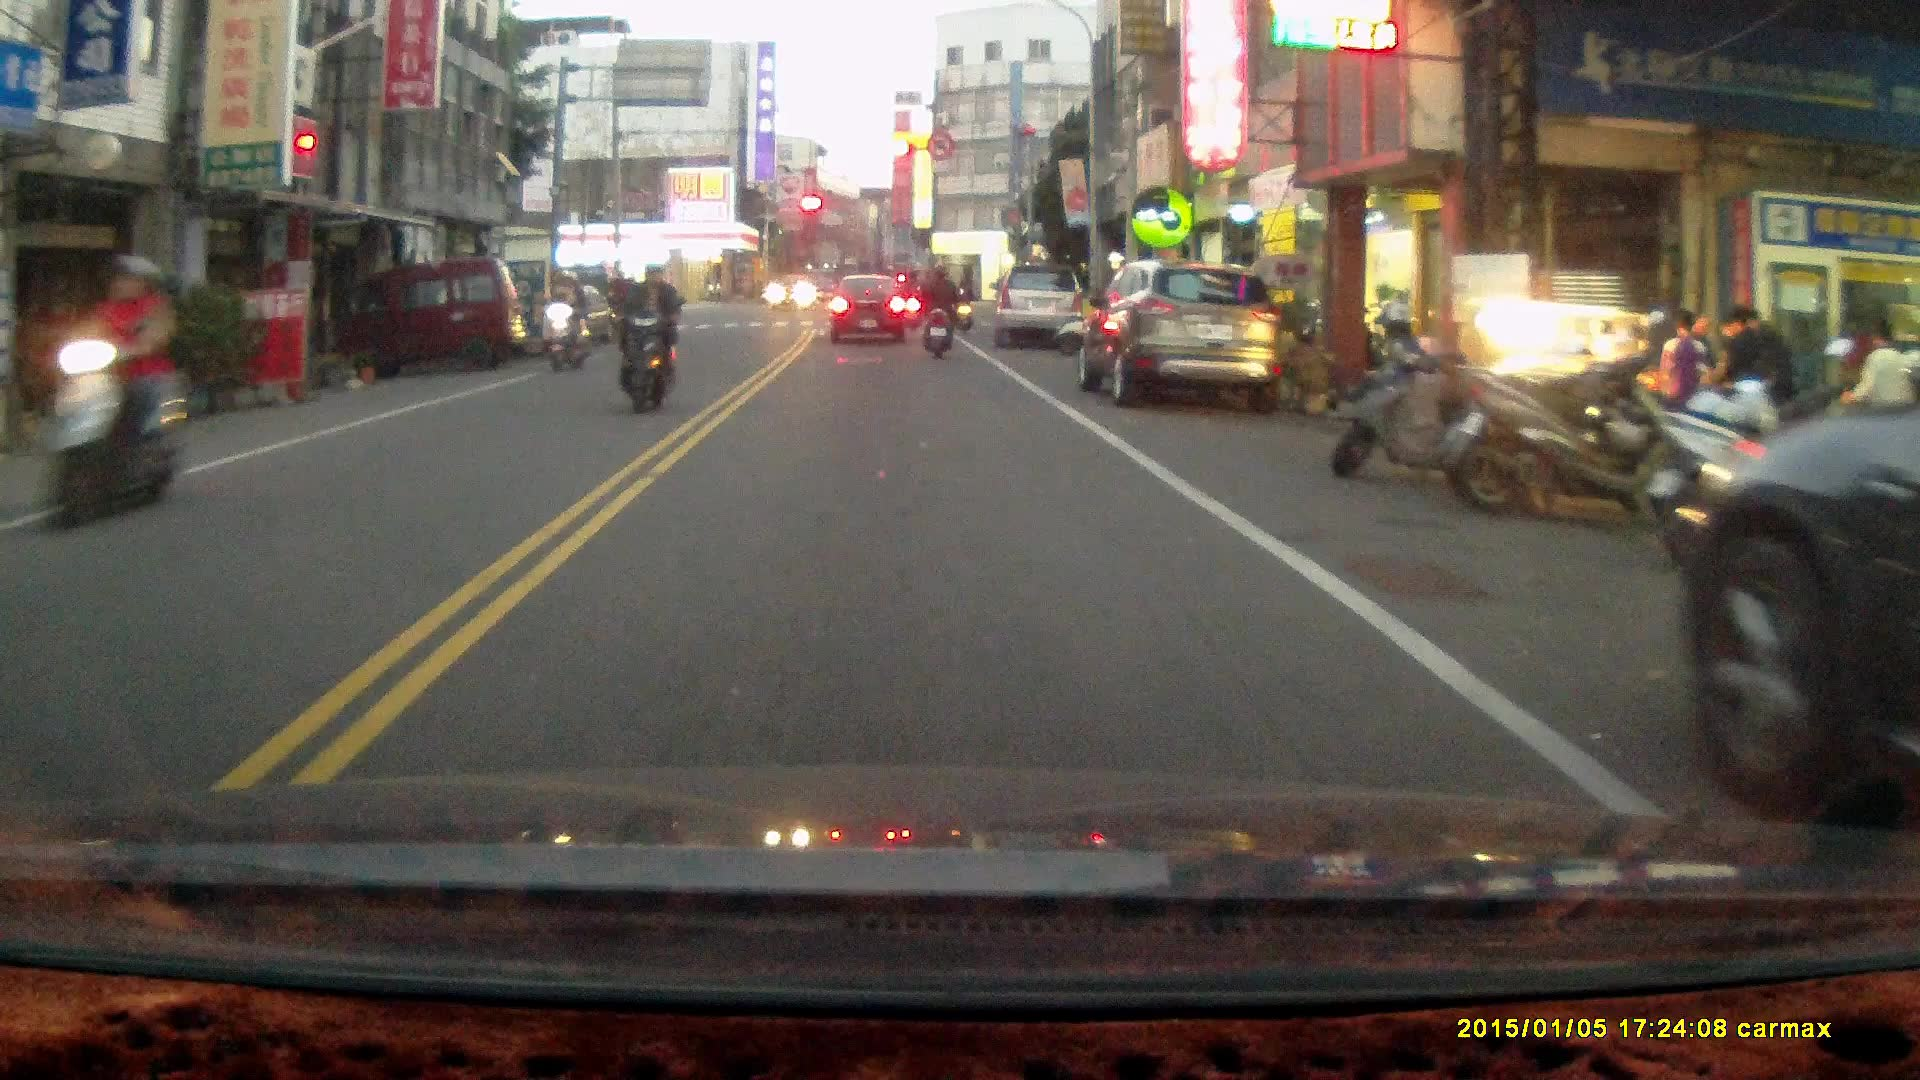pedestrian: (1719, 309, 1784, 461), (1851, 320, 1914, 468), (1658, 305, 1708, 455)
rider: (47, 250, 185, 532), (606, 263, 680, 418), (541, 268, 592, 376), (916, 261, 959, 361), (896, 266, 922, 326), (953, 275, 977, 337)
vehicle: (1677, 296, 1920, 823), (1079, 264, 1287, 415), (328, 263, 529, 382), (999, 266, 1086, 352)
